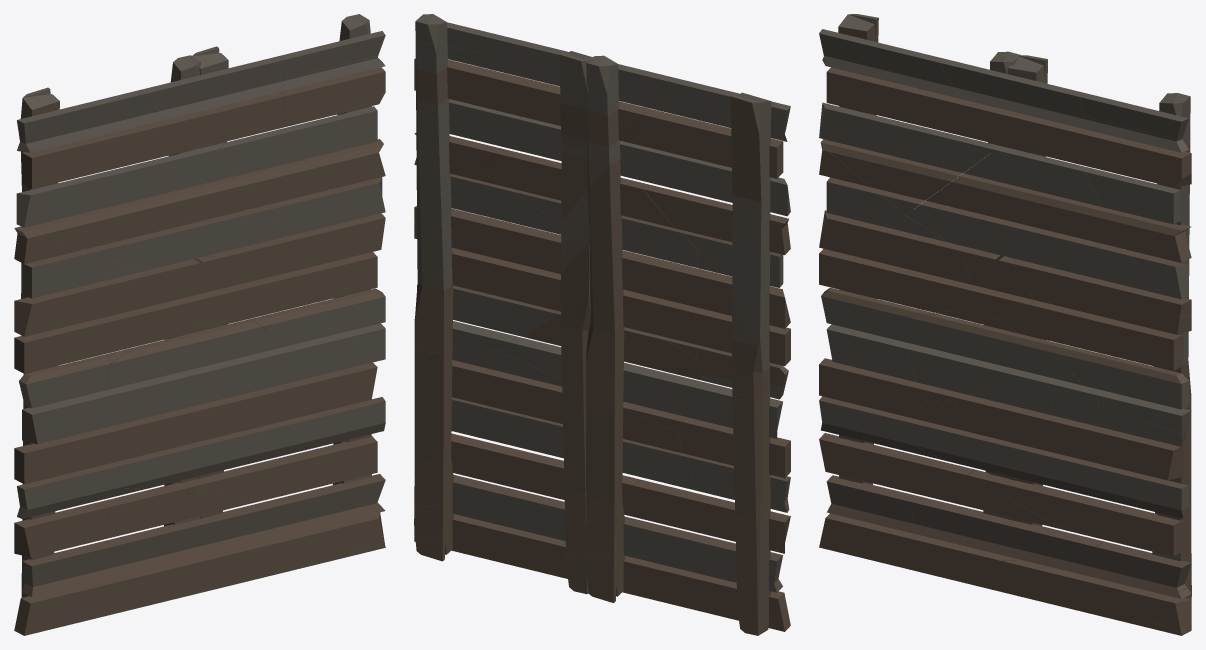
File: Wooden Z Cracked.fbx
3 renders of one model, left to right at view 1: azimuth 30°, elevation 25°; view 2: azimuth 150°, elevation 25°; view 3: azimuth 330°, elevation 25°, orthographic.
Parts seen in each view (by area): view 1: SM_Env_Train_Track_Bridge_Top_01.001_cell.052, SM_Env_Train_Track_Bridge_Top_01.001_cell.063, SM_Env_Train_Track_Bridge_Top_01.001_cell.037, SM_Env_Train_Track_Bridge_Top_01.001_cell.054, SM_Env_Train_Track_Bridge_Top_01.001_cell.053, SM_Env_Train_Track_Bridge_Top_01.001_cell.020, SM_Env_Train_Track_Bridge_Top_01.001_cell.036, SM_Env_Train_Track_Bridge_Top_01.001_cell.014, SM_Env_Train_Track_Bridge_Top_01.001_cell.076, SM_Env_Train_Track_Bridge_Top_01.001_cell.089, SM_Env_Train_Track_Bridge_Top_01.001_cell.035, SM_Env_Train_Track_Bridge_Top_01.001_cell.007 (+49 smaller); view 2: SM_Env_Train_Track_Bridge_Top_01.001_cell.007, SM_Env_Train_Track_Bridge_Top_01.001_cell.088, SM_Env_Train_Track_Bridge_Top_01.001_cell.020, SM_Env_Train_Track_Bridge_Top_01.001_cell.010, SM_Env_Train_Track_Bridge_Top_01.001_cell.004, SM_Env_Train_Track_Bridge_Top_01.001_cell.005, SM_Env_Train_Track_Bridge_Top_01.001_cell.063, SM_Env_Train_Track_Bridge_Top_01.001_cell.082, SM_Env_Train_Track_Bridge_Top_01.001_cell.037, SM_Env_Train_Track_Bridge_Top_01.001_cell.014, SM_Env_Train_Track_Bridge_Top_01.001_cell.036, SM_Env_Train_Track_Bridge_Top_01.001_cell.054 (+60 smaller); view 3: SM_Env_Train_Track_Bridge_Top_01.001_cell.052, SM_Env_Train_Track_Bridge_Top_01.001_cell.063, SM_Env_Train_Track_Bridge_Top_01.001_cell.054, SM_Env_Train_Track_Bridge_Top_01.001_cell.053, SM_Env_Train_Track_Bridge_Top_01.001_cell.020, SM_Env_Train_Track_Bridge_Top_01.001_cell.037, SM_Env_Train_Track_Bridge_Top_01.001_cell.014, SM_Env_Train_Track_Bridge_Top_01.001_cell.007, SM_Env_Train_Track_Bridge_Top_01.001_cell.036, SM_Env_Train_Track_Bridge_Top_01.001_cell.076, SM_Env_Train_Track_Bridge_Top_01.001_cell.089, SM_Env_Train_Track_Bridge_Top_01.001_cell.035 (+49 smaller).
Part boxes in pixels (left/top/right/bottom): SM_Env_Train_Track_Bridge_Top_01.001_cell.052: left=188, top=362, right=377, bottom=440; SM_Env_Train_Track_Bridge_Top_01.001_cell.063: left=108, top=545, right=385, bottom=615; SM_Env_Train_Track_Bridge_Top_01.001_cell.037: left=16, top=153, right=195, bottom=227; SM_Env_Train_Track_Bridge_Top_01.001_cell.054: left=185, top=436, right=377, bottom=498; SM_Env_Train_Track_Bridge_Top_01.001_cell.053: left=192, top=397, right=385, bottom=477; SM_Env_Train_Track_Bridge_Top_01.001_cell.020: left=105, top=324, right=307, bottom=423; SM_Env_Train_Track_Bridge_Top_01.001_cell.036: left=22, top=122, right=188, bottom=188; SM_Env_Train_Track_Bridge_Top_01.001_cell.014: left=207, top=217, right=383, bottom=284; SM_Env_Train_Track_Bridge_Top_01.001_cell.076: left=193, top=495, right=385, bottom=555; SM_Env_Train_Track_Bridge_Top_01.001_cell.089: left=224, top=252, right=377, bottom=316; SM_Env_Train_Track_Bridge_Top_01.001_cell.035: left=17, top=91, right=163, bottom=152; SM_Env_Train_Track_Bridge_Top_01.001_cell.007: left=205, top=346, right=385, bottom=505; SM_Env_Train_Track_Bridge_Top_01.001_cell.007: left=414, top=345, right=562, bottom=506; SM_Env_Train_Track_Bridge_Top_01.001_cell.088: left=414, top=195, right=514, bottom=353; SM_Env_Train_Track_Bridge_Top_01.001_cell.020: left=499, top=315, right=702, bottom=415; SM_Env_Train_Track_Bridge_Top_01.001_cell.010: left=732, top=225, right=770, bottom=395; SM_Env_Train_Track_Bridge_Top_01.001_cell.004: left=415, top=40, right=450, bottom=218; SM_Env_Train_Track_Bridge_Top_01.001_cell.005: left=730, top=92, right=771, bottom=238; SM_Env_Train_Track_Bridge_Top_01.001_cell.063: left=414, top=536, right=698, bottom=610; SM_Env_Train_Track_Bridge_Top_01.001_cell.082: left=732, top=387, right=770, bottom=521; SM_Env_Train_Track_Bridge_Top_01.001_cell.037: left=620, top=140, right=790, bottom=216; SM_Env_Train_Track_Bridge_Top_01.001_cell.014: left=414, top=208, right=561, bottom=274; SM_Env_Train_Track_Bridge_Top_01.001_cell.036: left=624, top=107, right=783, bottom=178; SM_Env_Train_Track_Bridge_Top_01.001_cell.054: left=451, top=433, right=564, bottom=492; SM_Env_Train_Track_Bridge_Top_01.001_cell.052: left=988, top=401, right=1183, bottom=480; SM_Env_Train_Track_Bridge_Top_01.001_cell.063: left=903, top=534, right=1191, bottom=635; SM_Env_Train_Track_Bridge_Top_01.001_cell.054: left=988, top=477, right=1183, bottom=556; SM_Env_Train_Track_Bridge_Top_01.001_cell.053: left=988, top=437, right=1188, bottom=518; SM_Env_Train_Track_Bridge_Top_01.001_cell.020: left=906, top=332, right=1103, bottom=406; SM_Env_Train_Track_Bridge_Top_01.001_cell.037: left=819, top=102, right=990, bottom=172; SM_Env_Train_Track_Bridge_Top_01.001_cell.014: left=1013, top=258, right=1191, bottom=334; SM_Env_Train_Track_Bridge_Top_01.001_cell.007: left=1001, top=402, right=1191, bottom=591; SM_Env_Train_Track_Bridge_Top_01.001_cell.036: left=826, top=67, right=983, bottom=140; SM_Env_Train_Track_Bridge_Top_01.001_cell.076: left=996, top=517, right=1191, bottom=598; SM_Env_Train_Track_Bridge_Top_01.001_cell.089: left=1031, top=299, right=1183, bottom=370; SM_Env_Train_Track_Bridge_Top_01.001_cell.035: left=819, top=29, right=959, bottom=98.
Size of the model in its own units: 7.31 by 10.09 by 0.6183.
